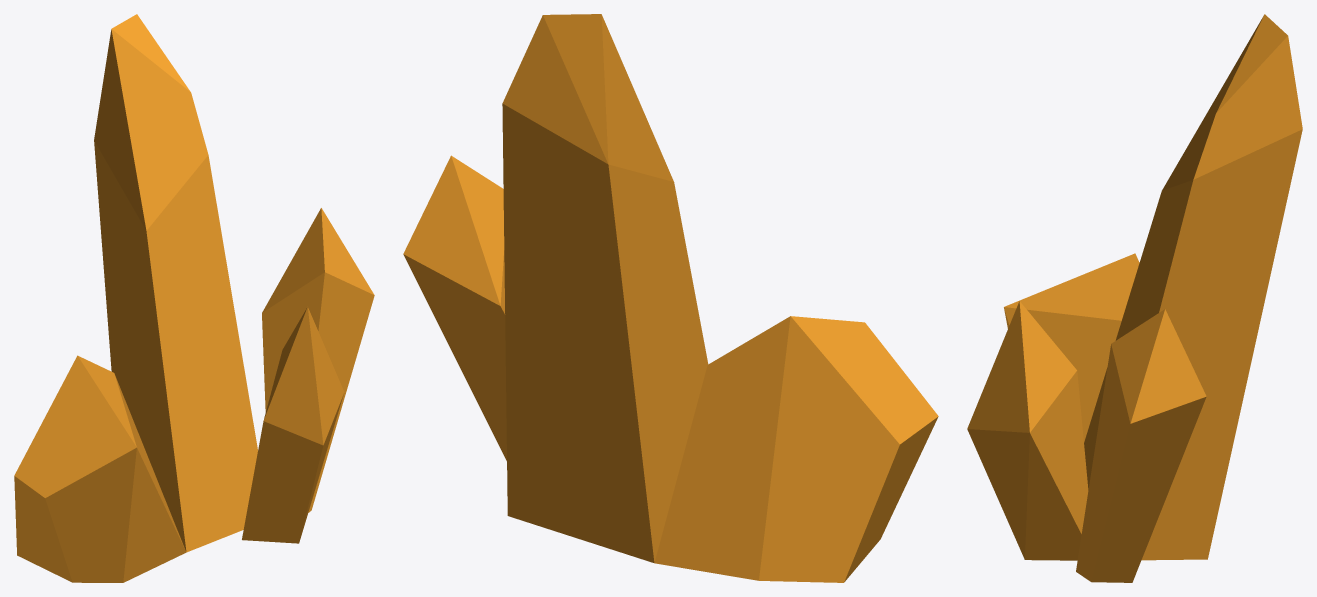
Rendered from Crystal-D03.fbx.
3 renders of one model, left to right at view 1: azimuth 30°, elevation 25°; view 2: azimuth 150°, elevation 25°; view 3: azimuth 270°, elevation 25°, orthographic. The views are drawn at different scales.
Visible parts, largest first — view 1: Crystal-D03; view 2: Crystal-D03; view 3: Crystal-D03.
Part boxes in pixels (x1,y1,x2,y2): Crystal-D03: (14, 14, 374, 582); Crystal-D03: (403, 14, 938, 582); Crystal-D03: (967, 14, 1302, 582).
Bounding box in the file's own units: 169 × 199 × 120.
